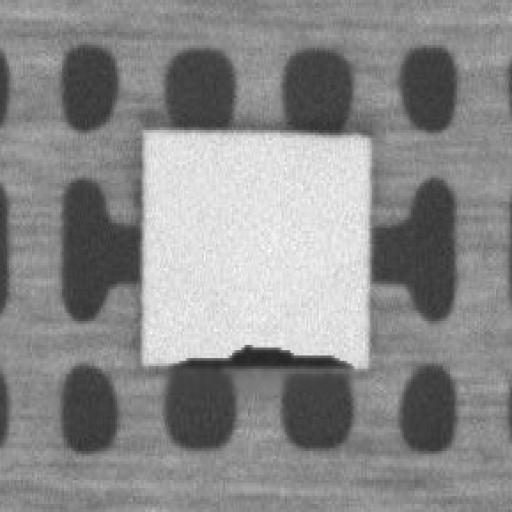DIE_BROKEN: (166, 334, 352, 369)
